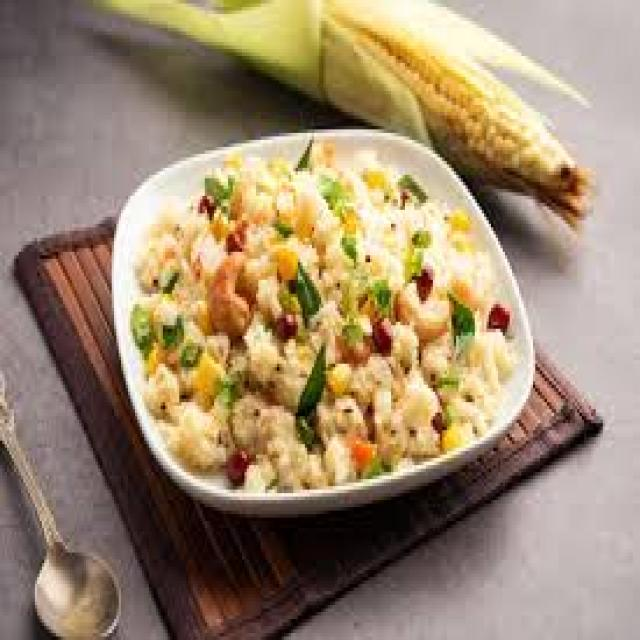UPMA: (130, 147, 519, 490)
